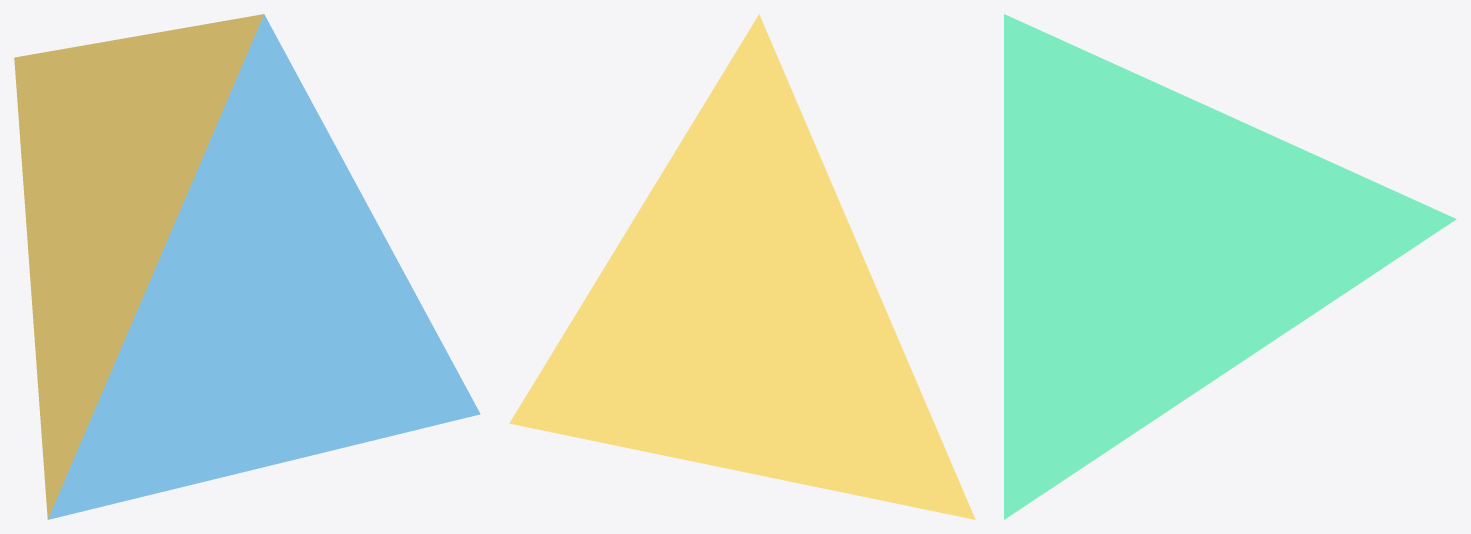
The model's file is fixture.gltf.
3 renders of one model, left to right at view 1: azimuth 30°, elevation 25°; view 2: azimuth 150°, elevation 25°; view 3: azimuth 270°, elevation 25°, orthographic. The views are drawn at different scales.
Size of the model in its own units: 2 by 2 by 2.
